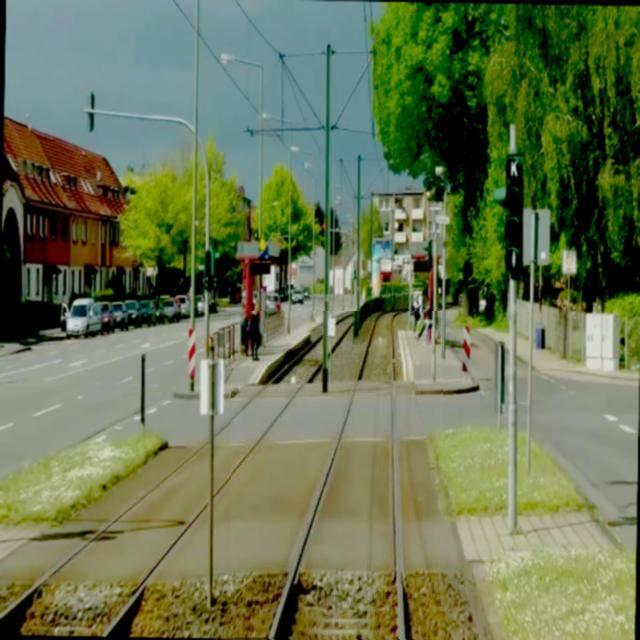rail: (233, 313, 444, 640)
